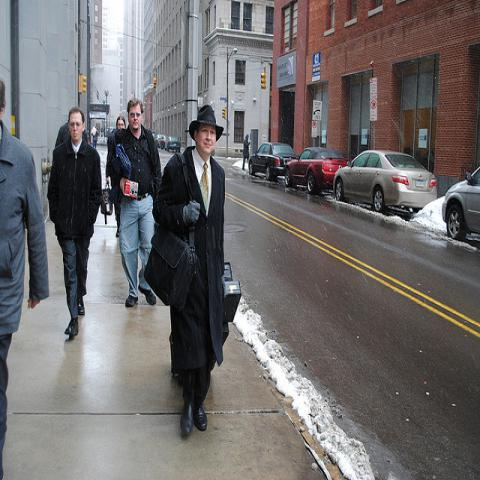car: (332, 148, 440, 215), (285, 146, 351, 192), (442, 165, 479, 241), (248, 142, 296, 181), (164, 137, 181, 152), (156, 134, 172, 149), (154, 134, 159, 148), (152, 131, 155, 138)
